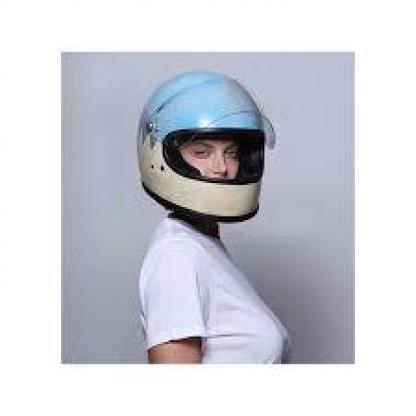helmet: (136, 69, 275, 224)
